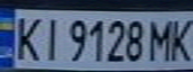1: (84, 16, 106, 63)
2: (103, 16, 130, 64)
8: (124, 17, 148, 63)
9: (63, 16, 87, 62)
I: (36, 14, 66, 62)
K: (9, 12, 45, 62), (166, 15, 193, 62)
M: (148, 16, 178, 62)
